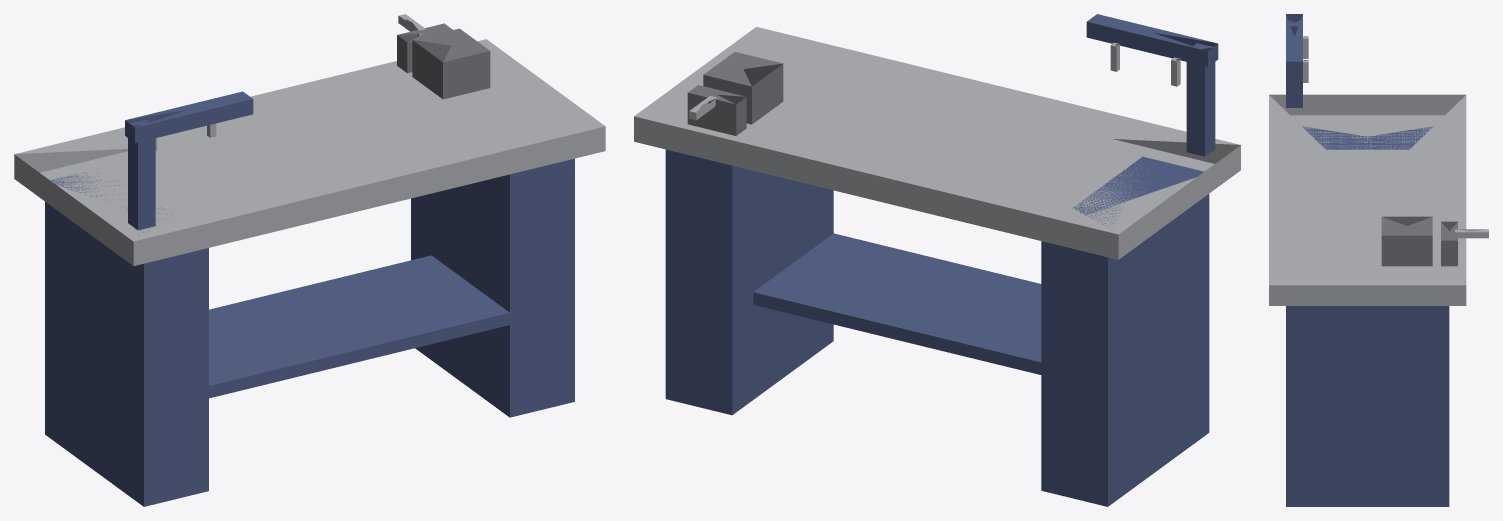
File: bench.glb
3 renders of one model, left to right at view 1: azimuth 30°, elevation 25°; view 2: azimuth 150°, elevation 25°; view 3: azimuth 270°, elevation 25°, orthographic. The views are drawn at different scales.
Visible parts, largest first — view 1: prop.bench; view 2: prop.bench; view 3: prop.bench.
Part boxes in pixels (box(x1,y1,x2,y2)): prop.bench: box(14, 14, 605, 506); prop.bench: box(634, 14, 1240, 506); prop.bench: box(1269, 14, 1488, 506).
Bounding box in the file's own units: 1.6 × 1.24 × 0.78.
